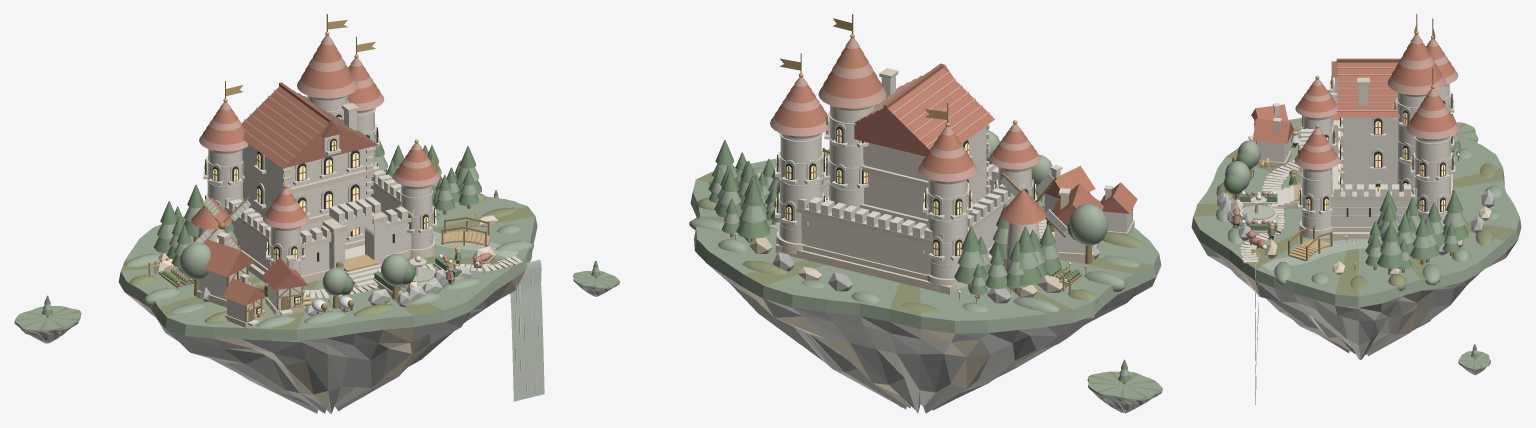
File: world.glb
The picture shows the model from 3 angles, left to right: view 1: azimuth 30°, elevation 25°; view 2: azimuth 150°, elevation 25°; view 3: azimuth 270°, elevation 25°; orthographic projection. The views are drawn at different scales.
Parts seen in each view (by area): view 1: 浮空岛 · 岩体与草甸, 城堡 · 可移除的屋顶与前墙, 城堡 · 基础与后墙, 浮空岛 · 林地与野花, 村庄 · 村舍与农田, 浮空岛 · 泉水与瀑布, 浮空岛 · 小径与花园, 居民 · 旅人、面包师、园丁与守塔人, 风车 · 旋转叶片; view 2: 浮空岛 · 岩体与草甸, 城堡 · 基础与后墙, 浮空岛 · 林地与野花, 城堡 · 可移除的屋顶与前墙, 村庄 · 村舍与农田, 风车 · 旋转叶片; view 3: 浮空岛 · 岩体与草甸, 城堡 · 可移除的屋顶与前墙, 城堡 · 基础与后墙, 浮空岛 · 林地与野花, 浮空岛 · 小径与花园, 村庄 · 村舍与农田, 浮空岛 · 泉水与瀑布, 居民 · 旅人、面包师、园丁与守塔人.
Boxes of the visible parts, x1,y1,x2,y2 form: 浮空岛 · 岩体与草甸: [14, 193, 537, 413]; 城堡 · 可移除的屋顶与前墙: [241, 82, 440, 287]; 城堡 · 基础与后墙: [199, 14, 401, 283]; 浮空岛 · 林地与野花: [42, 135, 498, 317]; 村庄 · 村舍与农田: [148, 197, 311, 327]; 浮空岛 · 泉水与瀑布: [433, 231, 544, 401]; 浮空岛 · 小径与花园: [255, 217, 522, 299]; 居民 · 旅人、面包师、园丁与守塔人: [248, 246, 491, 313]; 风车 · 旋转叶片: [194, 196, 250, 250]; 浮空岛 · 岩体与草甸: [573, 151, 1162, 413]; 城堡 · 基础与后墙: [770, 14, 1017, 294]; 浮空岛 · 林地与野花: [591, 130, 1130, 384]; 城堡 · 可移除的屋顶与前墙: [854, 63, 1040, 200]; 村庄 · 村舍与农田: [1000, 164, 1137, 293]; 风车 · 旋转叶片: [1000, 173, 1067, 237]; 浮空岛 · 岩体与草甸: [1191, 118, 1521, 374]; 城堡 · 可移除的屋顶与前墙: [1272, 58, 1433, 239]; 城堡 · 基础与后墙: [1320, 14, 1459, 239]; 浮空岛 · 林地与野花: [1223, 86, 1478, 359]; 浮空岛 · 小径与花园: [1238, 160, 1354, 266]; 村庄 · 村舍与农田: [1248, 91, 1338, 168]; 浮空岛 · 泉水与瀑布: [1256, 239, 1368, 389]; 居民 · 旅人、面包师、园丁与守塔人: [1225, 127, 1298, 249].
Size of the model in its own units: 17.52 by 12.03 by 10.23.
